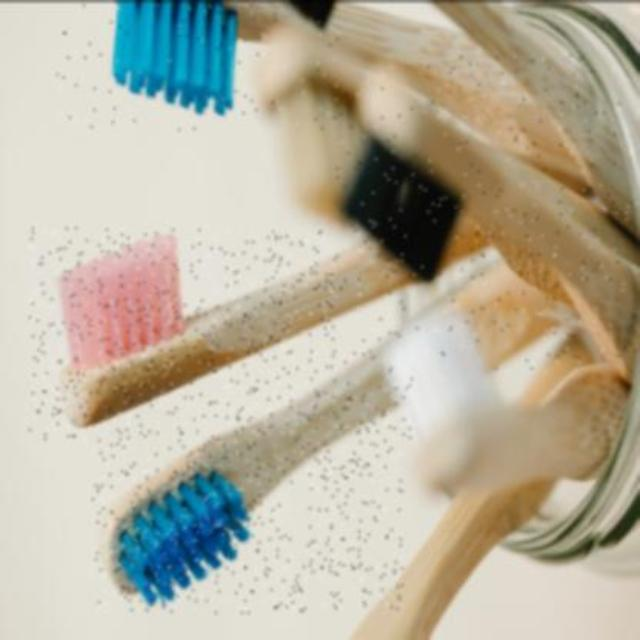toothbrush: (336, 54, 640, 372), (30, 227, 412, 443), (93, 354, 403, 612), (55, 0, 341, 130)
